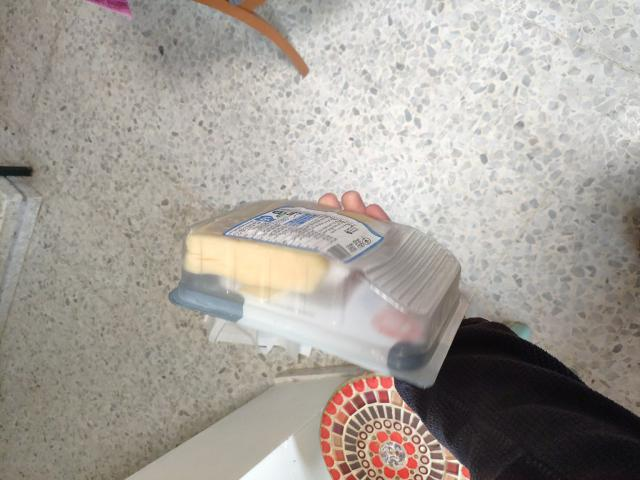cheese: (159, 199, 459, 408)
